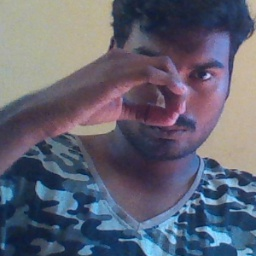O: (62, 45, 190, 133)
